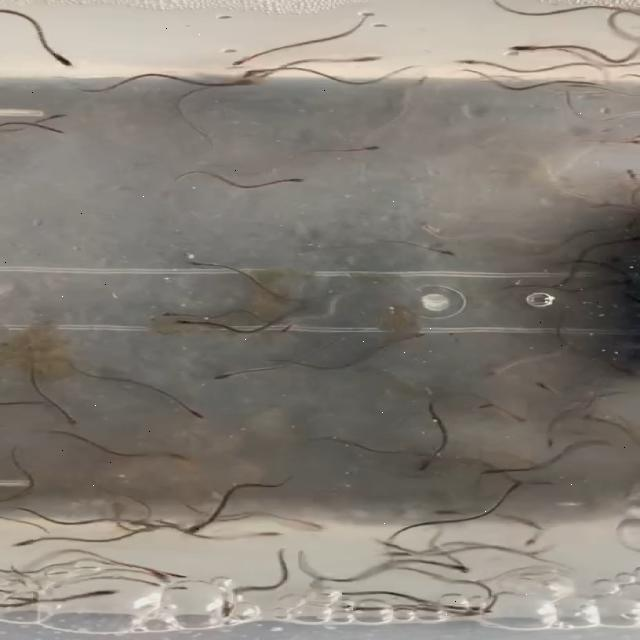active_glass_eel: (37, 49, 82, 70), (414, 218, 448, 240), (154, 582, 196, 598), (218, 75, 254, 93), (231, 63, 270, 79), (11, 535, 48, 551), (274, 172, 310, 188), (530, 382, 566, 398), (348, 52, 388, 66), (226, 51, 256, 69), (36, 110, 74, 124), (86, 588, 126, 600), (160, 568, 200, 580), (180, 408, 214, 422), (216, 600, 242, 618), (146, 569, 173, 586), (506, 40, 538, 54), (357, 141, 385, 157), (208, 368, 236, 384), (518, 518, 550, 532), (521, 532, 549, 548), (294, 518, 326, 532), (160, 449, 192, 463), (452, 56, 489, 68), (374, 546, 410, 558), (429, 506, 472, 516), (482, 365, 512, 379), (186, 518, 212, 534), (56, 412, 82, 428), (574, 404, 596, 422), (435, 245, 459, 261), (538, 436, 562, 452), (466, 602, 498, 614), (182, 258, 213, 270), (409, 74, 432, 90), (34, 125, 66, 136), (406, 329, 429, 344), (468, 402, 499, 413), (254, 529, 288, 539), (154, 309, 186, 319), (414, 460, 434, 476), (506, 414, 532, 426), (280, 321, 304, 334), (172, 315, 200, 326), (436, 562, 466, 572), (620, 167, 640, 181), (454, 560, 472, 575), (452, 610, 479, 620), (472, 458, 498, 468), (577, 81, 607, 89), (623, 232, 640, 244)
